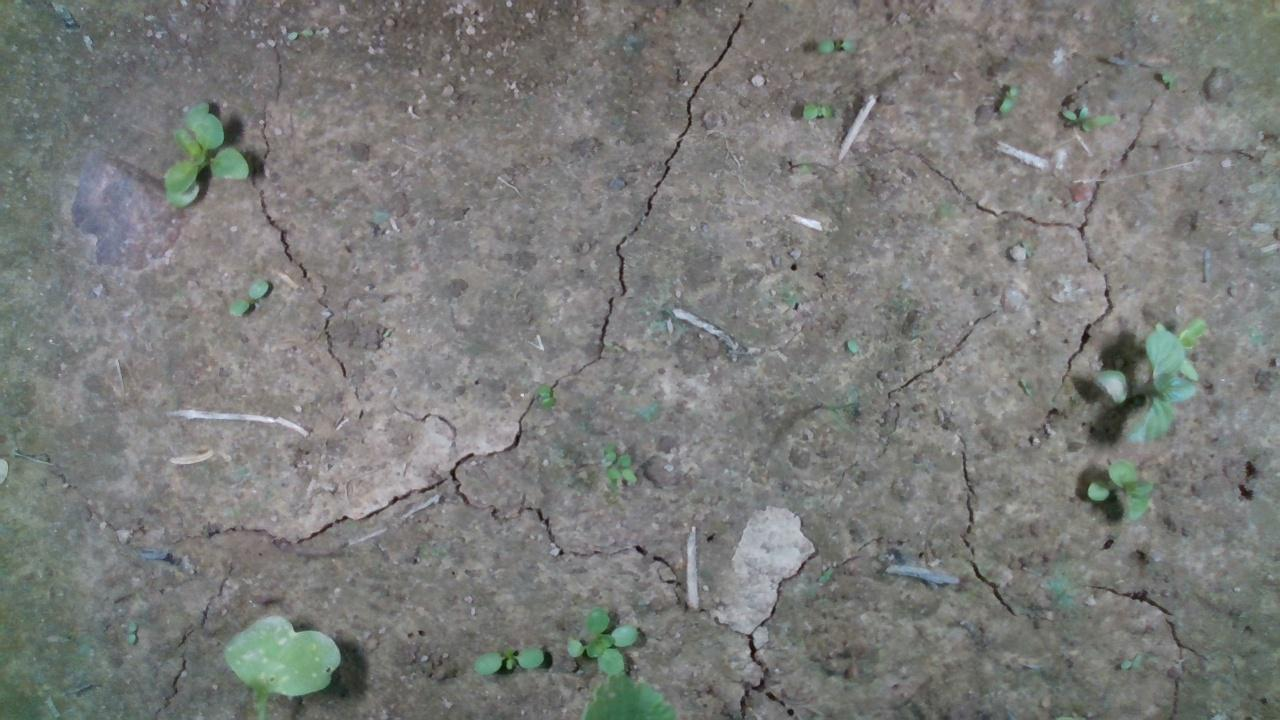weed: (471, 641, 544, 676), (227, 277, 270, 317), (814, 36, 858, 54), (998, 83, 1018, 115), (800, 102, 832, 121)
